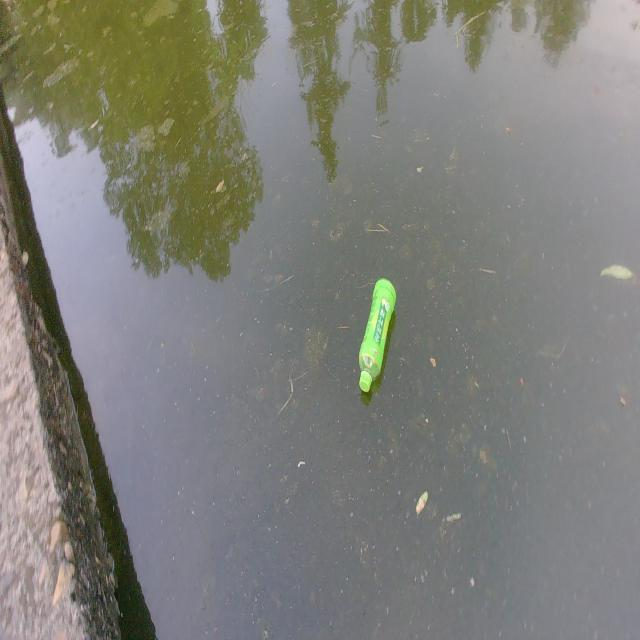Bottle: (356, 272, 396, 398)
